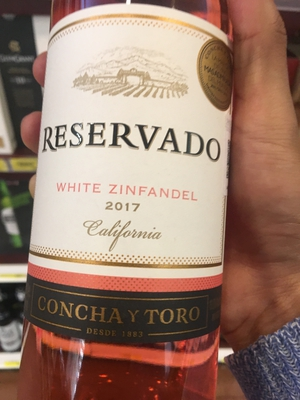reservado white zinfandel: (25, 8, 224, 400)
